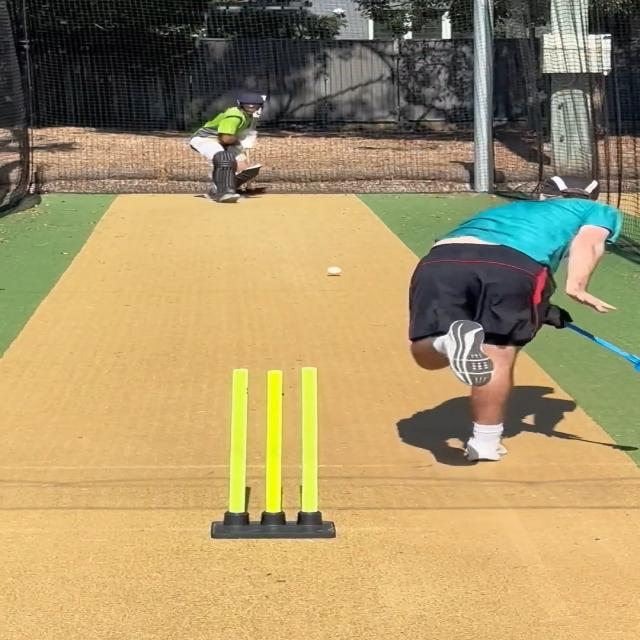ball: (326, 264, 344, 276)
stump: (210, 367, 336, 538)
